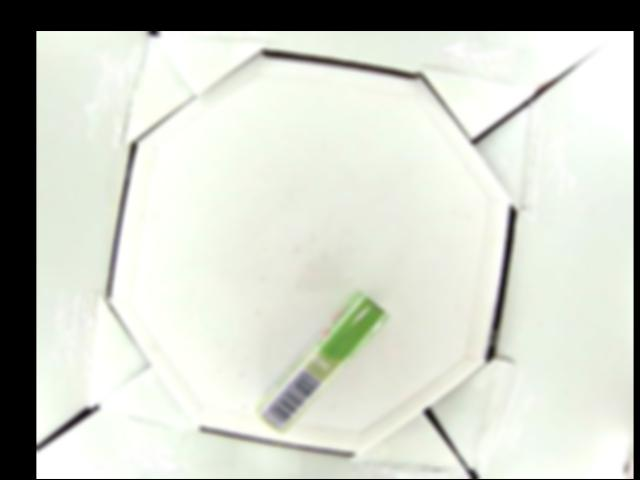Bottle: (250, 287, 390, 433)
